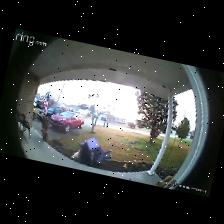person: (72, 138, 111, 165)
